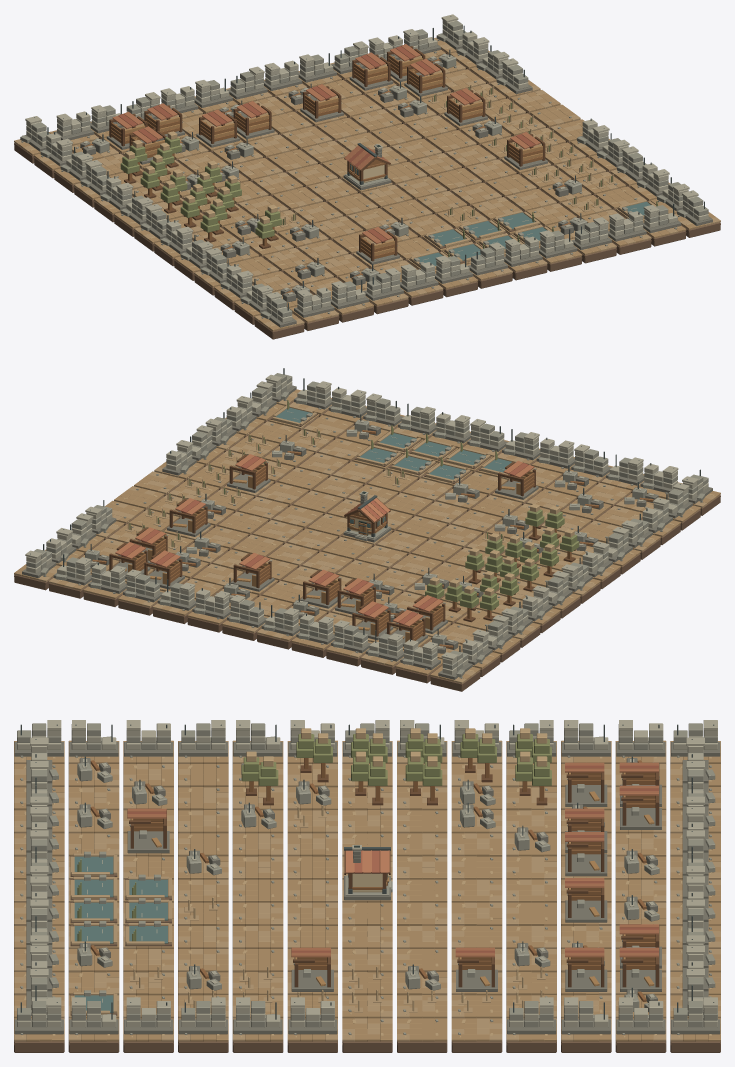
Rendered from warm_base_13x13.glb.
3 renders of one model, top to bottom at view 1: azimuth 30°, elevation 25°; view 2: azimuth 150°, elevation 25°; view 3: azimuth 270°, elevation 25°, orthographic. The views are drawn at different scales.
Visible parts, largest first — view 1: ground_2_sample_earth.025, ground_2_sample_earth.032, ground_2_sample_earth.016, ground_2_sample_earth.037, ground_2_sample_earth.038, ground_2_sample_earth.019, ground_2_sample_earth.026, ground_2_sample_earth.028, ground_2_sample_earth.020, ground_2_sample_earth.033, ground_2_sample_earth.047, ground_2_sample_earth.011; view 2: ground_2_sample_earth.033, ground_2_sample_earth.038, ground_2_sample_earth.025, ground_2_sample_earth.024, ground_2_sample_earth.026, ground_2_sample_earth.028, ground_2_sample_earth.032, ground_2_sample_earth.041, ground_2_sample_earth.047, ground_2_sample_earth.020, ground_2_sample_earth.037, ground_2_sample_earth.019 (+7 smaller); view 3: ground_2_sample_earth.037, ground_2_sample_earth.019, ground_2_sample_earth.024, ground_2_sample_earth.026, ground_2_sample_earth.023, ground_2_sample_earth.016, ground_2_sample_earth.029, ground_2_sample_earth.032, ground_2_sample_earth.038, ground_2_sample_earth.040, ground_2_sample_earth.020, ground_2_sample_earth.033 (+126 smaller).
Boxes of the visible parts, x1,y1,x2,y2 form: ground_2_sample_earth.025: (426,130,471,152); ground_2_sample_earth.032: (327,193,372,215); ground_2_sample_earth.016: (317,117,362,139); ground_2_sample_earth.037: (382,199,427,221); ground_2_sample_earth.038: (486,174,531,196); ground_2_sample_earth.019: (267,149,312,171); ground_2_sample_earth.026: (530,104,575,126); ground_2_sample_earth.028: (273,187,318,209); ground_2_sample_earth.020: (371,123,416,146); ground_2_sample_earth.033: (431,167,476,190); ground_2_sample_earth.047: (596,186,640,208); ground_2_sample_earth.011: (271,111,307,133); ground_2_sample_earth.033: (293,492,343,513); ground_2_sample_earth.038: (278,469,328,490); ground_2_sample_earth.025: (218,513,268,534); ground_2_sample_earth.024: (322,539,372,559); ground_2_sample_earth.026: (114,488,164,508); ground_2_sample_earth.028: (411,541,461,561); ground_2_sample_earth.032: (397,518,447,538); ground_2_sample_earth.041: (471,497,521,517); ground_2_sample_earth.047: (249,423,299,443); ground_2_sample_earth.020: (233,536,283,556); ground_2_sample_earth.037: (385,495,432,515); ground_2_sample_earth.019: (337,562,387,581); ground_2_sample_earth.037: (232,879,283,902); ground_2_sample_earth.019: (451,856,502,879); ground_2_sample_earth.024: (397,879,447,902); ground_2_sample_earth.026: (397,1018,447,1041); ground_2_sample_earth.023: (397,810,447,833); ground_2_sample_earth.016: (506,902,556,925); ground_2_sample_earth.029: (342,902,392,925); ground_2_sample_earth.032: (287,856,337,879); ground_2_sample_earth.038: (232,949,283,972); ground_2_sample_earth.040: (178,764,228,787); ground_2_sample_earth.020: (451,925,502,948); ground_2_sample_earth.033: (287,925,337,948).
Bounding box in the file's own units: 12.93 × 1.26 × 12.93.
